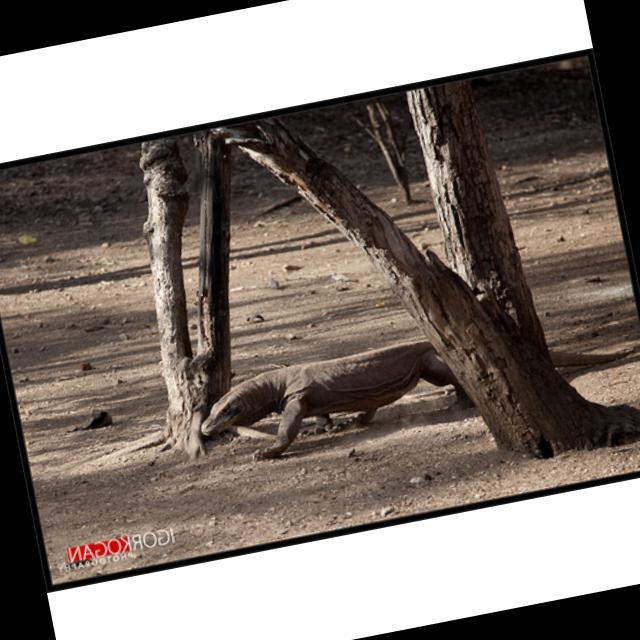KomodoDragon: (188, 292, 640, 467)
